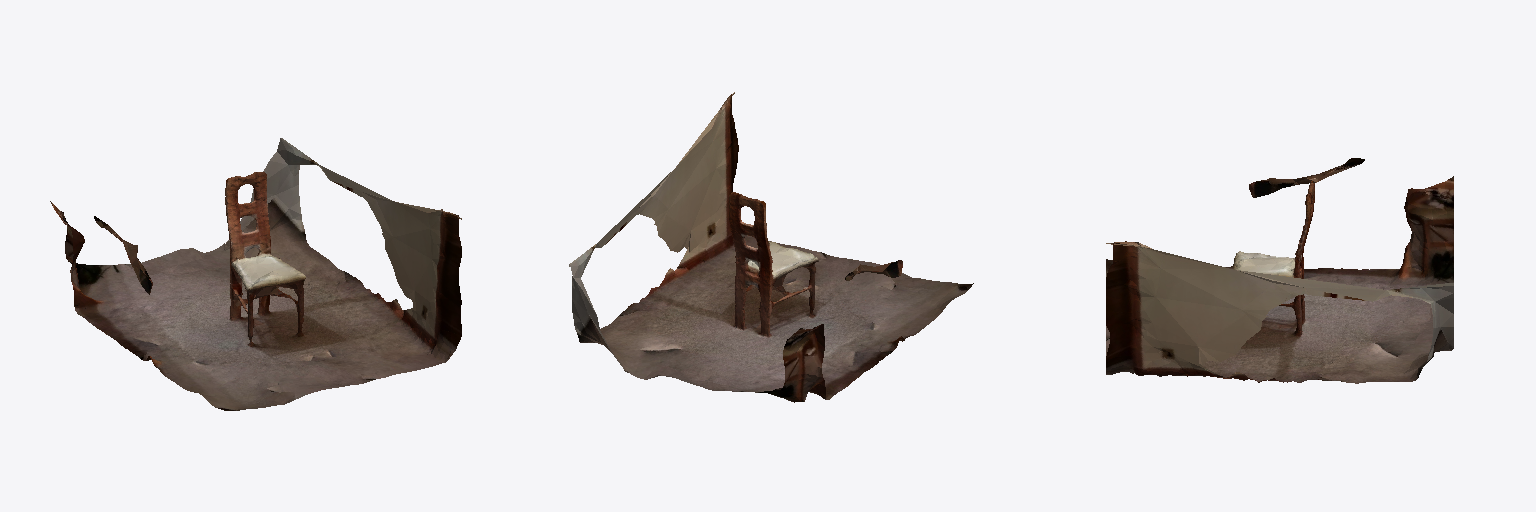
3 views of the same model, side by side, from view 1: azimuth 30°, elevation 25°; view 2: azimuth 150°, elevation 25°; view 3: azimuth 270°, elevation 25° (orthographic).
Size of the model in its own units: 1.59 by 0.9126 by 1.99.
Materials: 1 (1 with a texture image).